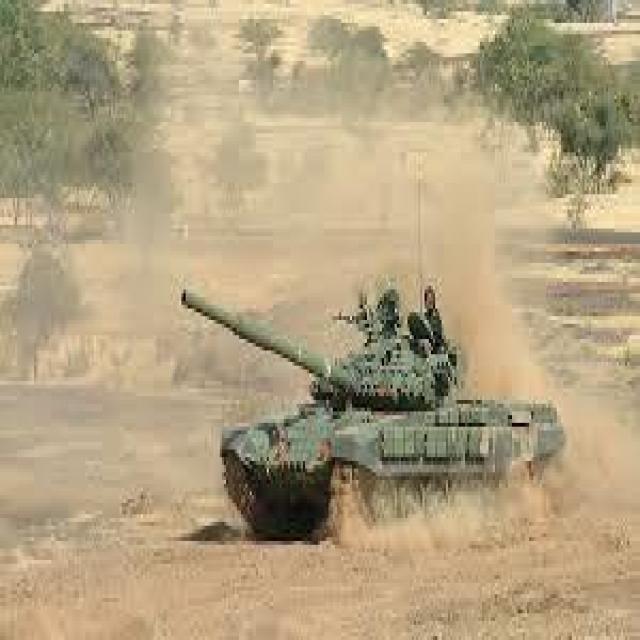Tanks: (172, 230, 570, 550)
